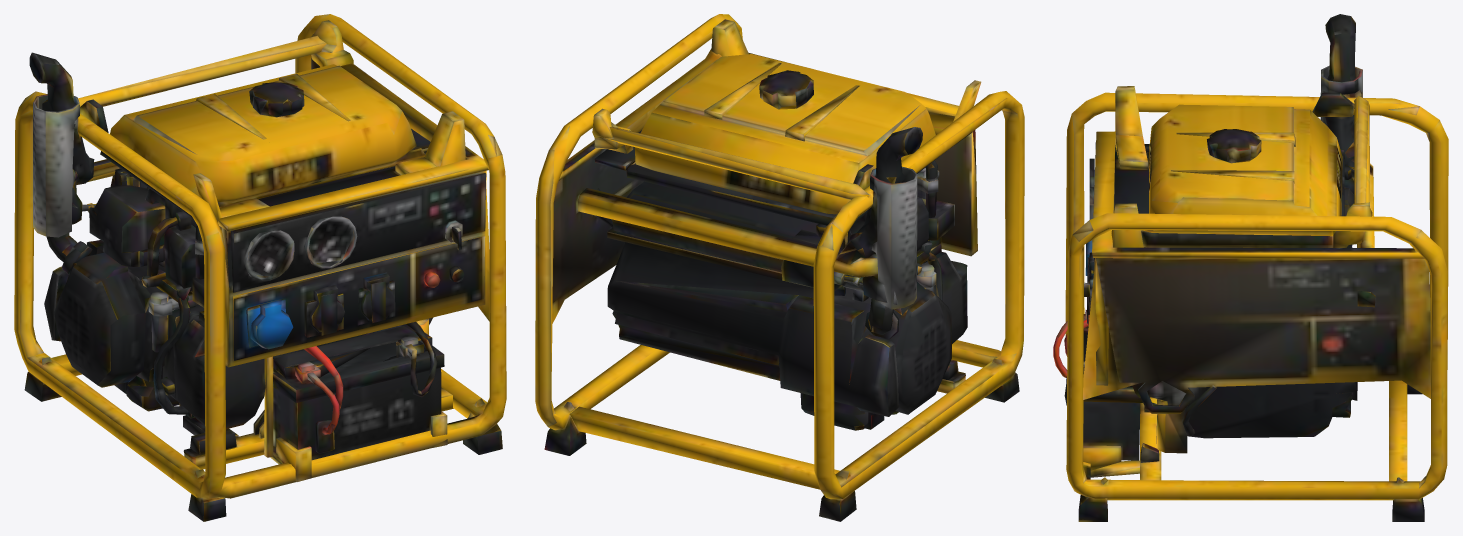
Rendered from salvage-diesel_generator_prop.glb.
3 renders of one model, left to right at view 1: azimuth 30°, elevation 25°; view 2: azimuth 150°, elevation 25°; view 3: azimuth 270°, elevation 25°, orthographic. The views are drawn at different scales.
Parts seen in each view (by area): view 1: Meshy_AI_diesel_generator_prop_3d_20261028_texture; view 2: Meshy_AI_diesel_generator_prop_3d_20261028_texture; view 3: Meshy_AI_diesel_generator_prop_3d_20261028_texture.
Boxes of the visible parts, x1,y1,x2,y2 form: Meshy_AI_diesel_generator_prop_3d_20261028_texture: [14, 14, 506, 521]; Meshy_AI_diesel_generator_prop_3d_20261028_texture: [535, 14, 1024, 521]; Meshy_AI_diesel_generator_prop_3d_20261028_texture: [1053, 14, 1448, 521].
Size of the model in its own units: 1.65 by 1.79 by 1.8.
1 material, 1 textured.
